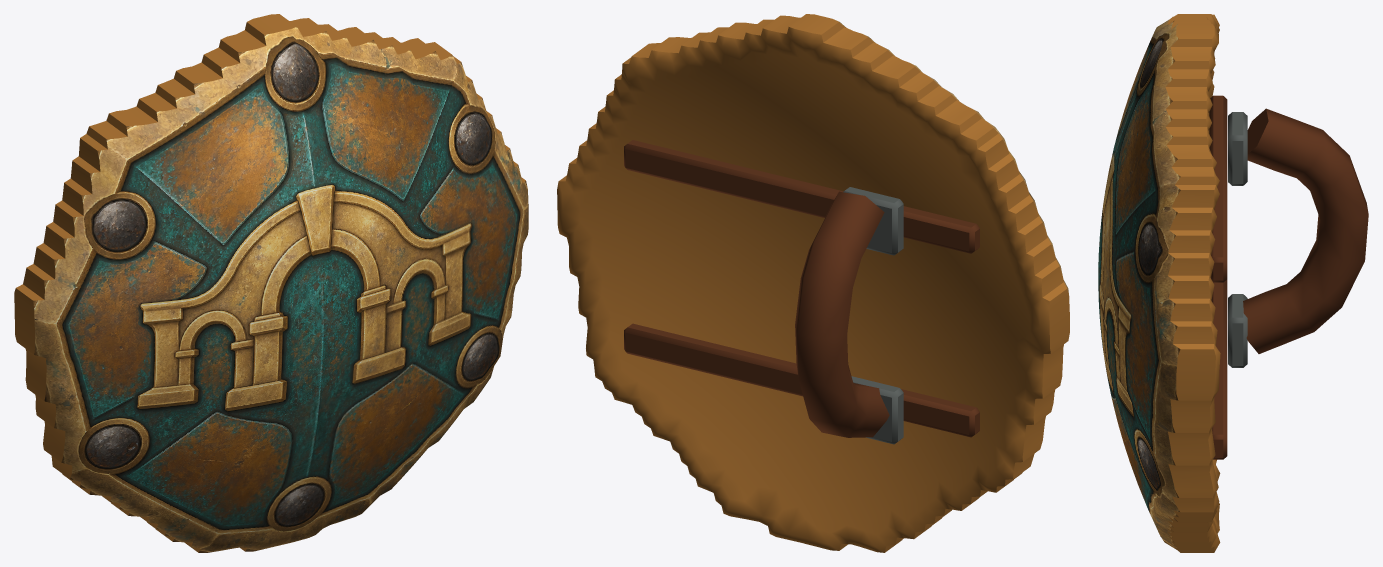
Rendered from passage_buckler.obj.
3 views of the same model, side by side, from view 1: azimuth 30°, elevation 25°; view 2: azimuth 150°, elevation 25°; view 3: azimuth 270°, elevation 25° (orthographic). The views are drawn at different scales.
Visible parts, largest first — view 1: A_PaintedSilhouette.001_passage_buckler_generated, A_PaintedSilhouette.001_passage_buckler_brass_edge; view 2: A_PaintedSilhouette.001_passage_buckler_brass_edge, B_BackHandGrip.001_passage_buckler_rear_leather, D_RadialBrace_1.001_passage_buckler_rear_leather, D_RadialBrace_-1.001_passage_buckler_rear_leather, C_GripMount_1.001_passage_buckler_rear_iron, C_GripMount_-1.001_passage_buckler_rear_iron; view 3: A_PaintedSilhouette.001_passage_buckler_generated, A_PaintedSilhouette.001_passage_buckler_brass_edge, B_BackHandGrip.001_passage_buckler_rear_leather, D_RadialBrace_1.001_passage_buckler_rear_leather, D_RadialBrace_-1.001_passage_buckler_rear_leather, C_GripMount_1.001_passage_buckler_rear_iron, C_GripMount_-1.001_passage_buckler_rear_iron.
Part boxes in pixels (<box>): A_PaintedSilhouette.001_passage_buckler_generated: <box>33,27,528,552</box>; A_PaintedSilhouette.001_passage_buckler_brass_edge: <box>14,14,525,552</box>; A_PaintedSilhouette.001_passage_buckler_brass_edge: <box>557,14,1069,552</box>; B_BackHandGrip.001_passage_buckler_rear_leather: <box>795,191,889,437</box>; D_RadialBrace_1.001_passage_buckler_rear_leather: <box>624,140,979,253</box>; D_RadialBrace_-1.001_passage_buckler_rear_leather: <box>624,323,979,437</box>; C_GripMount_1.001_passage_buckler_rear_iron: <box>843,187,903,255</box>; C_GripMount_-1.001_passage_buckler_rear_iron: <box>851,376,903,444</box>; A_PaintedSilhouette.001_passage_buckler_generated: <box>1098,19,1180,549</box>; A_PaintedSilhouette.001_passage_buckler_brass_edge: <box>1165,14,1220,552</box>; B_BackHandGrip.001_passage_buckler_rear_leather: <box>1243,108,1368,353</box>; D_RadialBrace_1.001_passage_buckler_rear_leather: <box>1209,95,1227,282</box>; D_RadialBrace_-1.001_passage_buckler_rear_leather: <box>1211,279,1227,459</box>; C_GripMount_1.001_passage_buckler_rear_iron: <box>1228,112,1247,185</box>; C_GripMount_-1.001_passage_buckler_rear_iron: <box>1228,294,1247,367</box>.
Size of the model in its own units: 1.96 by 1.95 by 0.9692.
